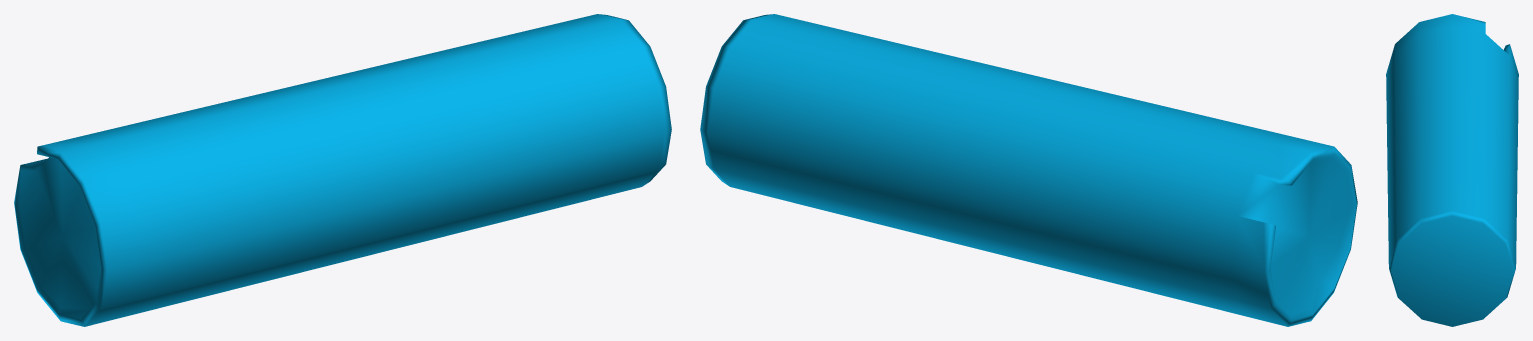
Rendered from Cut_Wood_01.fbx.
The picture shows the model from 3 angles, left to right: view 1: azimuth 30°, elevation 25°; view 2: azimuth 150°, elevation 25°; view 3: azimuth 270°, elevation 25°; orthographic projection. The views are drawn at different scales.
Parts seen in each view (by area): view 1: Cut_Wood_01; view 2: Cut_Wood_01; view 3: Cut_Wood_01.
Boxes of the visible parts, x1,y1,x2,y2 form: Cut_Wood_01: (14,14,671,326); Cut_Wood_01: (700,14,1357,326); Cut_Wood_01: (1386,14,1518,326).
Size of the model in its own units: 55.28 by 15.65 by 15.65.
